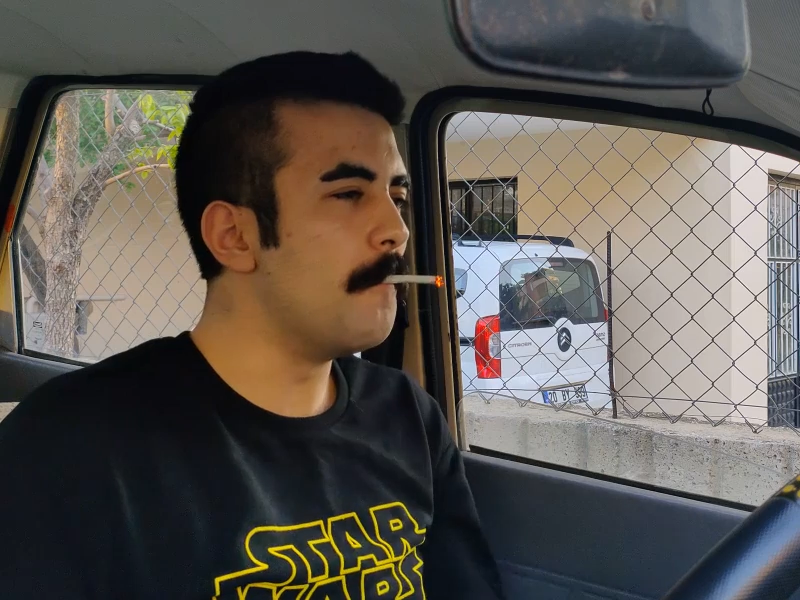sigara: (374, 270, 452, 292)
